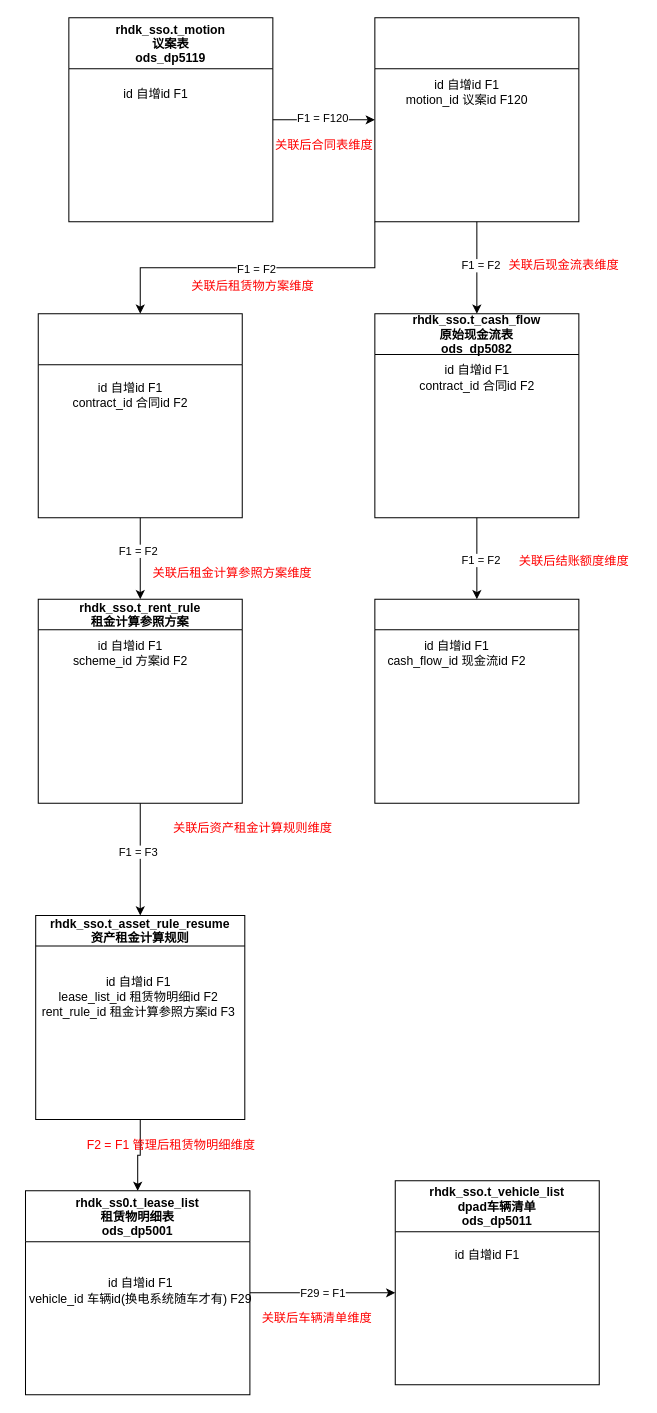
Some shapes in this 657 by 1413 pixel diagram are drawn without their labels. The box of each missing label's shape, as (x1, y1, x2, y2) in pixels:
rhdk_sso.t_carry_over_limit 结账额度表: (374, 598, 579, 803)
rhdk_sso.t_contract 合同表 ods_dp5004: (374, 17, 579, 222)
rhdk_sso.t_lease_scheme dpap租赁物方案 ods_dp5003: (37, 313, 242, 518)
